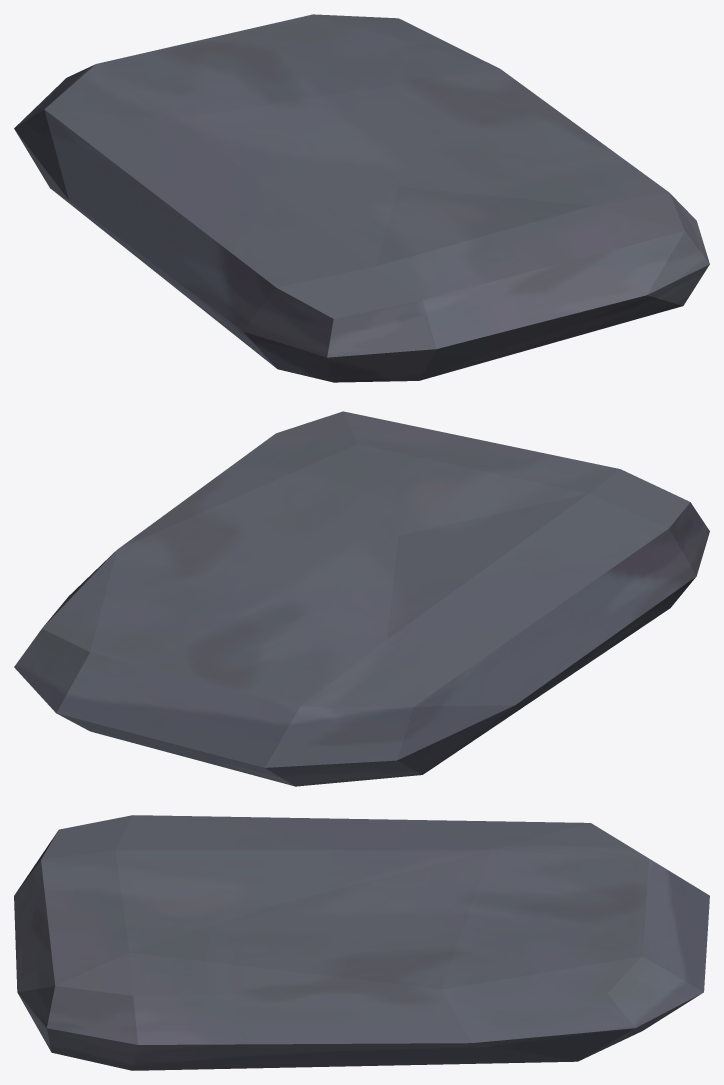
File: piedra5Dani.fbx
3 views of the same model, one above another, from view 1: azimuth 30°, elevation 25°; view 2: azimuth 150°, elevation 25°; view 3: azimuth 270°, elevation 25° (orthographic). The views are drawn at different scales.
Visible parts, largest first — view 1: Cube.002; view 2: Cube.002; view 3: Cube.002.
Boxes of the visible parts, <box> form: Cube.002: <box>14,14,709,382</box>; Cube.002: <box>14,411,709,786</box>; Cube.002: <box>14,815,709,1070</box>.
Bounding box in the file's own units: 1.33 × 0.3065 × 1.88.
